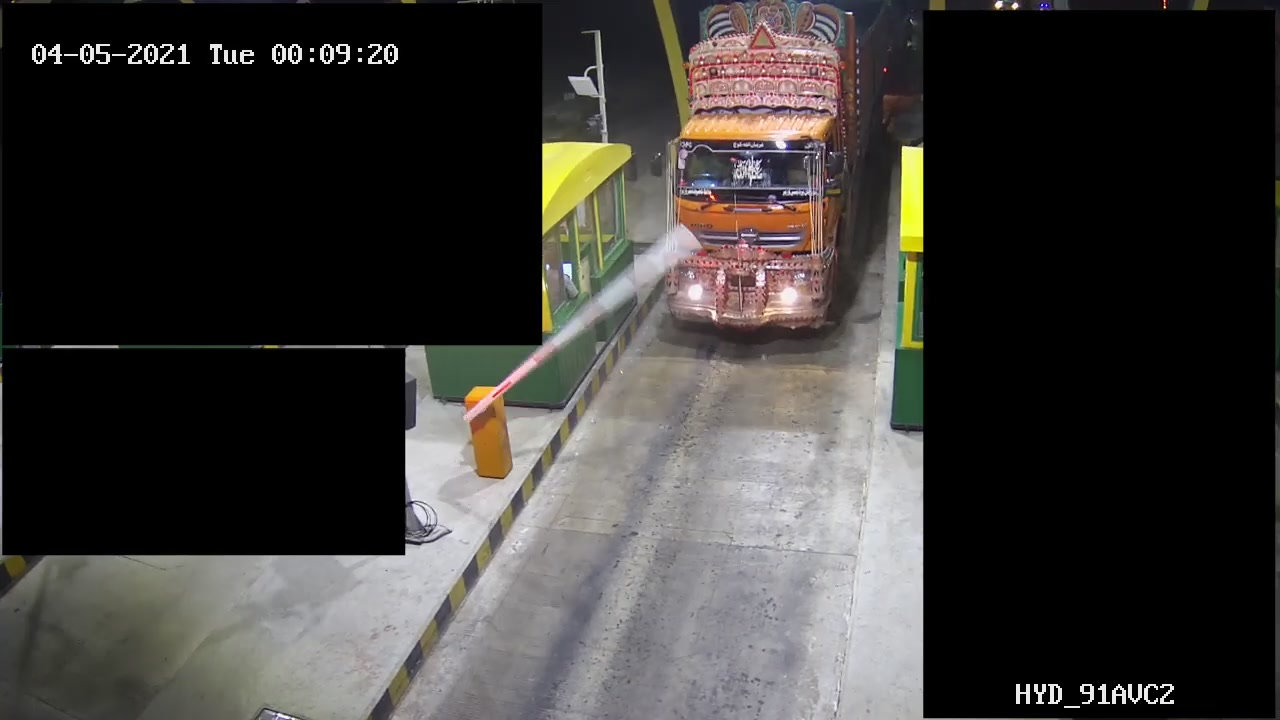F6: (649, 1, 857, 342)
